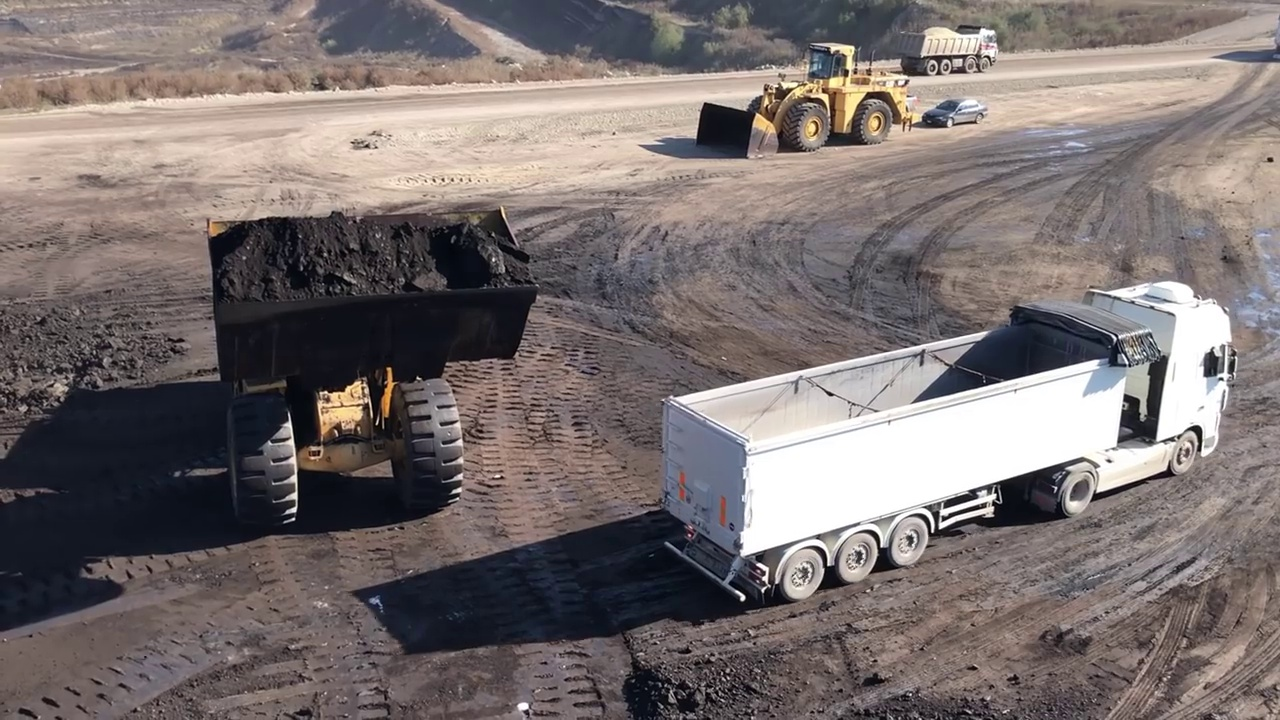car: (921, 101, 990, 126)
truck: (656, 281, 1242, 603), (897, 23, 1002, 73)
wheel loader: (206, 207, 543, 530), (695, 43, 909, 157)
